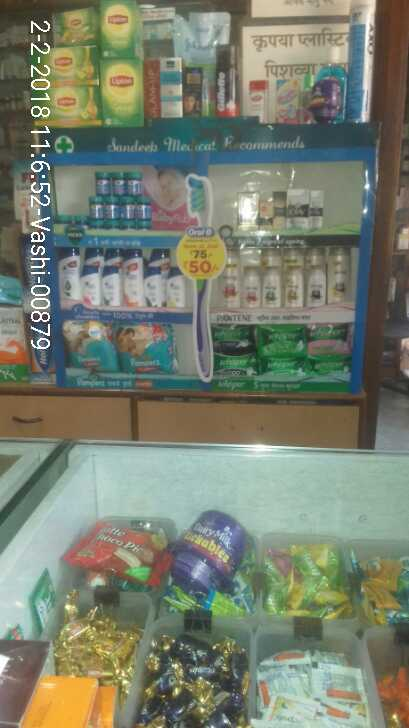beauty: (325, 247, 353, 305), (283, 268, 306, 310), (78, 265, 101, 307), (286, 188, 309, 229), (240, 266, 262, 308), (141, 264, 162, 307), (261, 266, 283, 307), (101, 268, 120, 307), (307, 266, 325, 306)
pharmacy: (114, 321, 180, 374), (61, 321, 114, 374), (306, 324, 355, 357), (257, 324, 305, 357), (211, 324, 258, 354), (212, 353, 257, 380), (258, 360, 312, 375), (103, 193, 121, 221), (88, 195, 107, 221), (110, 172, 128, 198), (134, 197, 152, 223), (94, 171, 111, 196), (127, 171, 142, 199), (119, 196, 135, 220)
